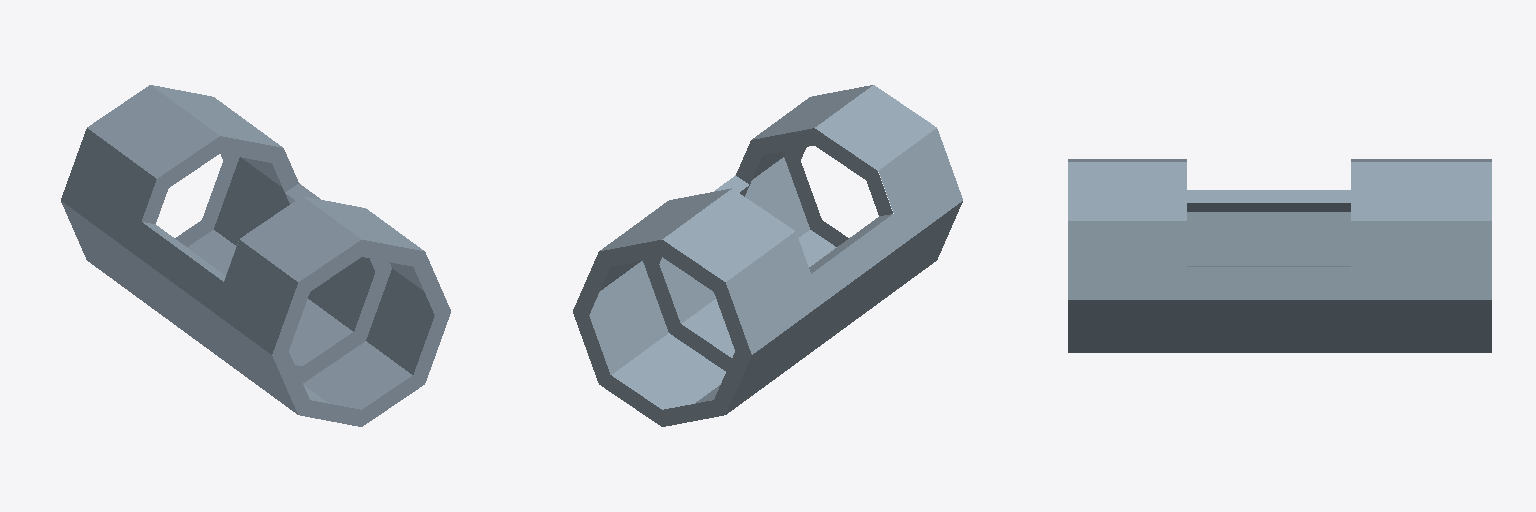
Rendered from pipeOpening.obj.
The picture shows the model from 3 angles: view 1: azimuth 30°, elevation 25°; view 2: azimuth 150°, elevation 25°; view 3: azimuth 270°, elevation 25°; orthographic projection.
Parts seen in each view (by area): view 1: pipeOpening; view 2: pipeOpening; view 3: pipeOpening.
Boxes of the visible parts, <box> form: pipeOpening: <box>61,85,450,426</box>; pipeOpening: <box>573,85,962,426</box>; pipeOpening: <box>1068,159,1491,352</box>.
Size of the model in its own units: 4.9 by 4.9 by 10.